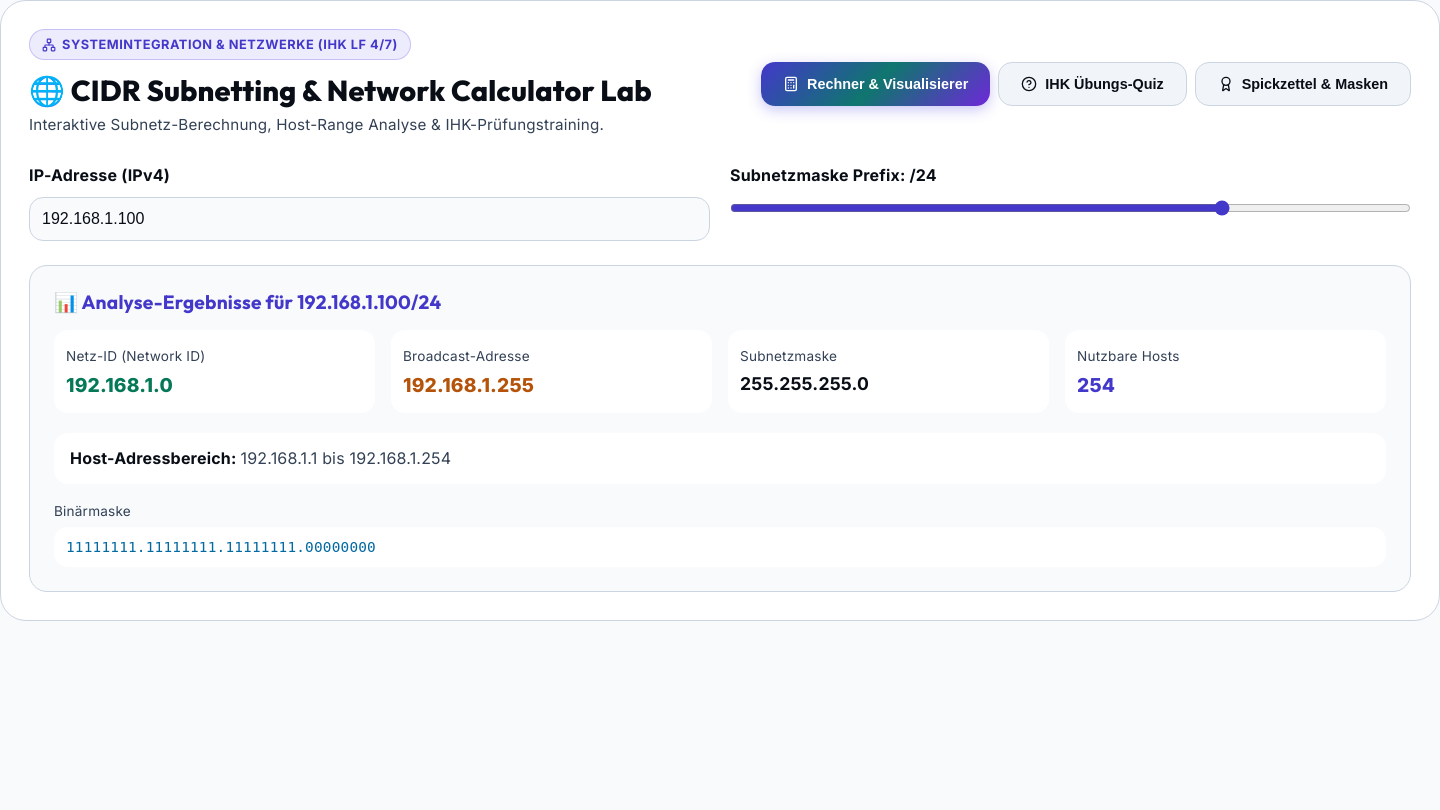
Test: SubnettingLab Unit Tests › wechselt zum Quiz-Modus und vergibt XP bei richtiger Antwort
The image size is (1440, 810).
Click the button "IHK Übungs-Quiz": coordinates (1092, 84) [998, 62, 1187, 106]
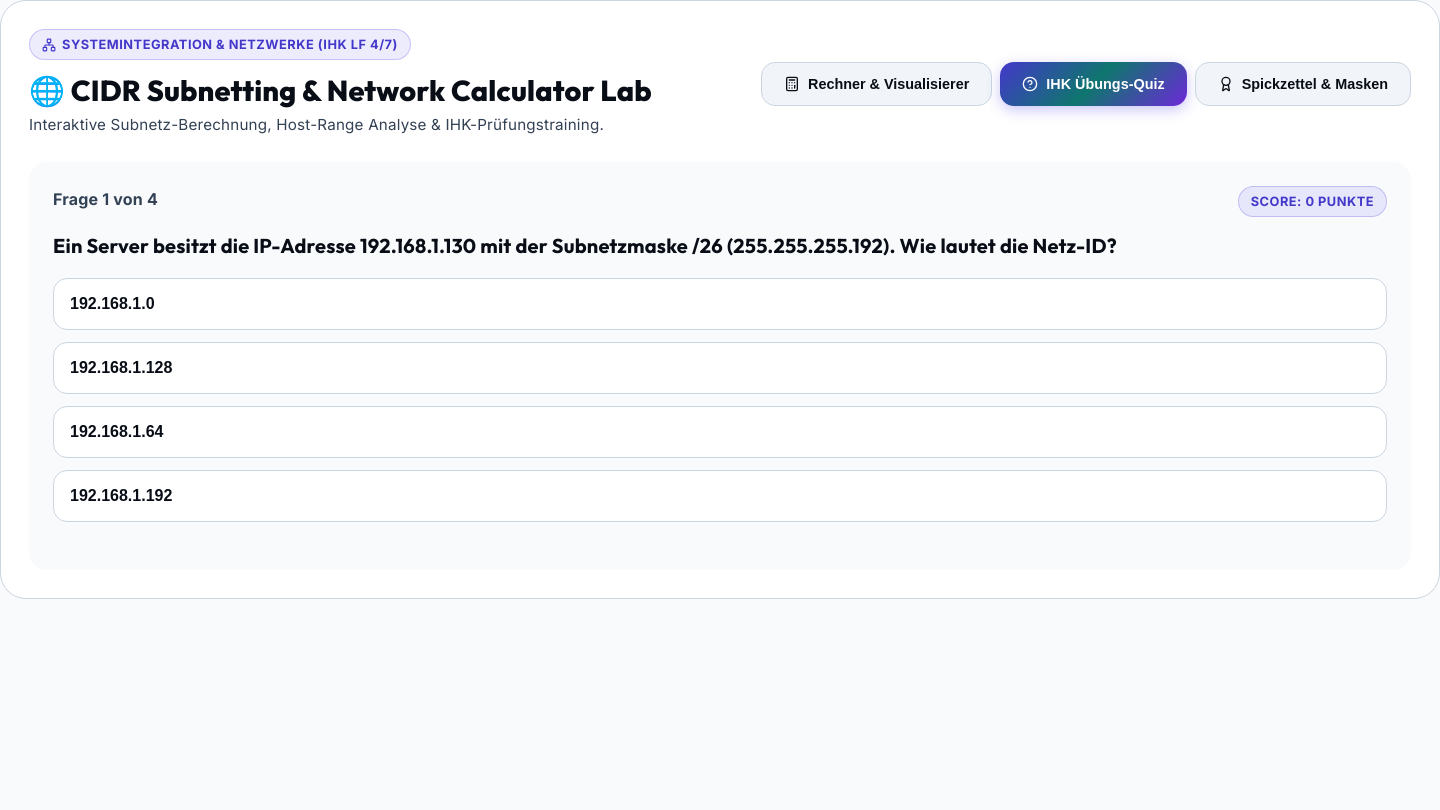
Click the button "192.168.1.128": coordinates (121, 368) [53, 342, 1387, 394]
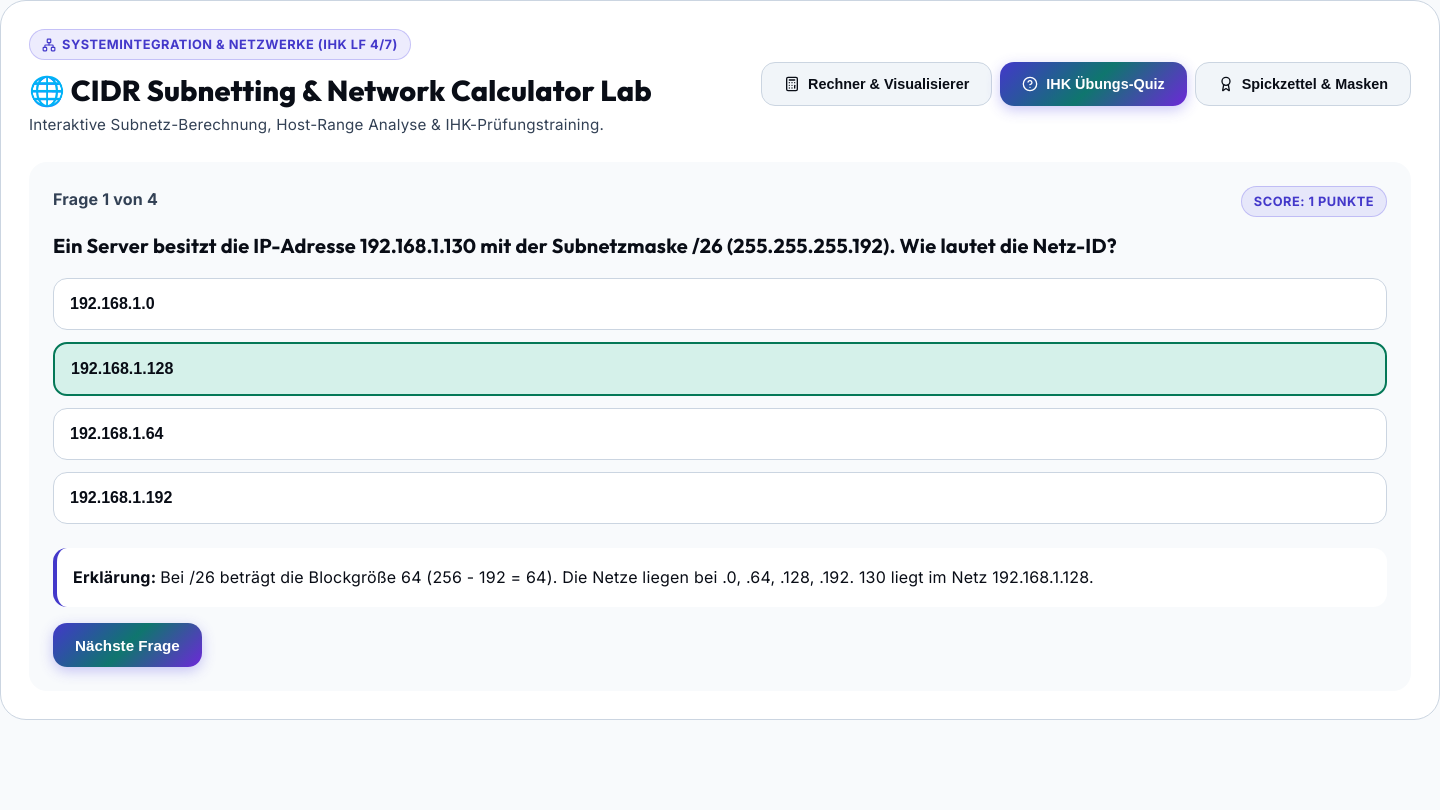
Check: the button "Nächste Frage" is shown, box [53, 623, 202, 667]
